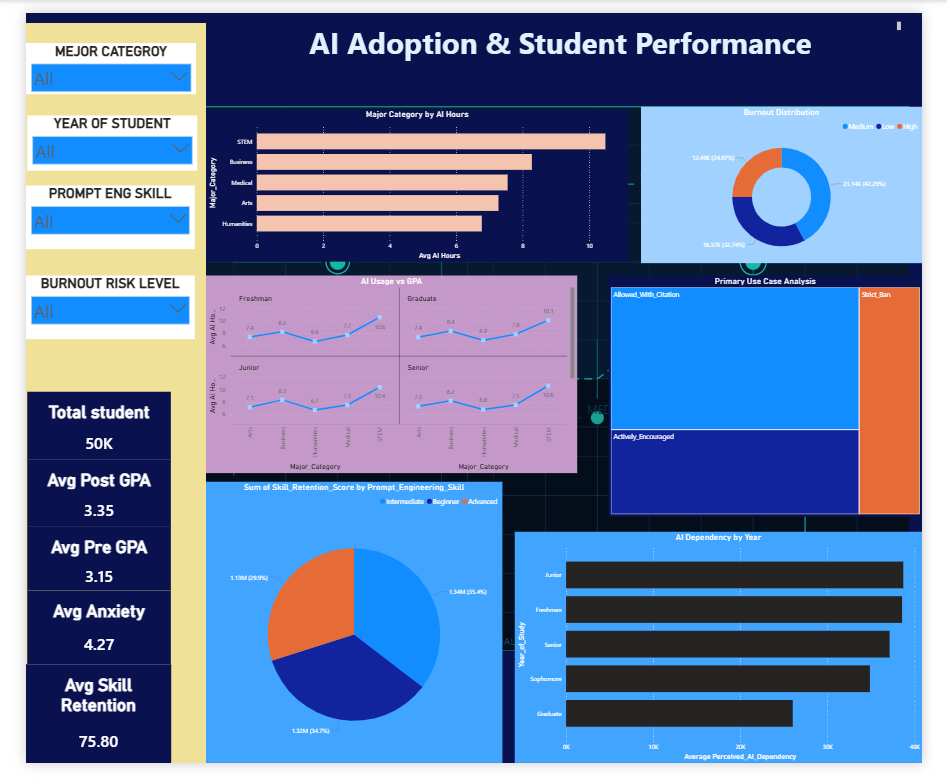

The page's visual inventory and layout, read from the dashboard file:
{"tool":"powerbi","page":{"name":"Page 1","canvas":[1792,1500],"ordinal":0},"visuals":[{"type":"shape","box":[0,0,360,1500],"z":0},{"type":"textbox","box":[407.5,12.5,1347.5,92.5],"z":1000},{"type":"cardVisual","title":"Total student","fields":{"Data":["CountNonNull(ai_student_impact_dataset (1).Student_ID)"]},"box":[2.5,757.5,287.5,135],"z":2000},{"type":"cardVisual","title":"Avg Pre GPA","fields":{"Data":["Sheet2.Avg Pre GPA"]},"box":[2.5,1027.5,287.5,127.5],"z":3000},{"type":"cardVisual","title":"Avg Post GPA","fields":{"Data":["Sheet2.Avg Post GPA"]},"box":[2.5,892.5,287.5,135],"z":4000},{"type":"cardVisual","title":"Avg AI Hours ","fields":{"Data":["Sheet2.Avg AI Hours"]},"box":[782.5,260,145,110],"z":5000},{"type":"cardVisual","title":"Avg Anxiety","fields":{"Data":["Sheet2.Avg Anxiety"]},"box":[2.5,1155,287.5,147.5],"z":6000},{"type":"cardVisual","title":"Avg Skill Retention","fields":{"Data":["Sheet2.Avg Skill Retention"]},"box":[0,1302.5,290,197.5],"z":7000},{"type":"clusteredBarChart","title":" Major Category by  AI Hours","fields":{"Category":["ai_student_impact_dataset (1).Major_Category"],"Y":["Sheet2.Avg AI Hours"]},"box":[360,192.5,845,305],"z":8000},{"type":"lineChart","title":"AI Usage vs GPA","fields":{"Y":["Sheet2.Avg AI Hours"],"Category":["ai_student_impact_dataset (1).Major_Category"],"Rows":["ai_student_impact_dataset (1).Year_of_Study"]},"box":[360,525,742.5,395],"z":9000},{"type":"donutChart","title":"Burnout Distribution","fields":{"Category":["ai_student_impact_dataset (1).Burnout_Risk_Level"],"Y":["CountNonNull(ai_student_impact_dataset (1).Student_ID)"]},"box":[1230,187.5,562.5,312.5],"z":10000},{"type":"barChart","title":"AI Dependency by Year","fields":{"Category":["ai_student_impact_dataset (1).Year_of_Study"],"Y":["Sum(ai_student_impact_dataset (1).Perceived_AI_Dependency)"]},"box":[977.5,1037.5,815,462.5],"z":11000},{"type":"pieChart","fields":{"Category":["ai_student_impact_dataset (1).Prompt_Engineering_Skill"],"Y":["Sum(ai_student_impact_dataset (1).Skill_Retention_Score)"]},"box":[360,937.5,592.5,562.5],"z":12000},{"type":"treemap","title":"Primary Use Case Analysis","fields":{"Group":["ai_student_impact_dataset (1).Institutional_Policy"],"Values":["CountNonNull(ai_student_impact_dataset (1).Student_ID)"]},"box":[1165,525,627.5,482.5],"z":13000},{"type":"slicer","title":"    MEJOR CATEGROY","fields":{"Values":["ai_student_impact_dataset (1).Major_Category"]},"box":[0,60,340,102.5],"z":14000},{"type":"slicer","title":"YEAR OF STUDENT ","fields":{"Values":["ai_student_impact_dataset (1).Year_of_Study"]},"box":[2.5,205,340,110],"z":15000},{"type":"slicer","title":"PROMPT ENG SKILL","fields":{"Values":["ai_student_impact_dataset (1).Prompt_Engineering_Skill"]},"box":[0,345,337.5,127.5],"z":16000},{"type":"slicer","title":"BURNOUT RISK LEVEL","fields":{"Values":["ai_student_impact_dataset (1).Burnout_Risk_Level"]},"box":[0,525,337.5,127.5],"z":17000}]}

Visuals, with their boxes in screenshot pixels (x1, y1, x2, y2), scaled from the page's 1792x1500 canvas onto the 947x779 screenshot:
shape: 0, 0, 190, 778
textbox: 215, 6, 927, 55
"Total student" cardVisual: 1, 393, 153, 464
"Avg Pre GPA" cardVisual: 1, 534, 153, 600
"Avg Post GPA" cardVisual: 1, 464, 153, 534
"Avg AI Hours " cardVisual: 414, 135, 490, 192
"Avg Anxiety" cardVisual: 1, 600, 153, 676
"Avg Skill Retention" cardVisual: 0, 676, 153, 778
" Major Category by  AI Hours" clusteredBarChart: 190, 100, 637, 258
"AI Usage vs GPA" lineChart: 190, 273, 583, 478
"Burnout Distribution" donutChart: 650, 97, 946, 260
"AI Dependency by Year" barChart: 517, 539, 946, 778
pieChart - ai_student_impact_dataset (1).Prompt_Engineering_Skill x Sum(ai_student_impact_dataset (1).Skill_Retention_Score): 190, 487, 503, 778
"Primary Use Case Analysis" treemap: 616, 273, 946, 523
"    MEJOR CATEGROY" slicer: 0, 31, 180, 84
"YEAR OF STUDENT " slicer: 1, 106, 181, 164
"PROMPT ENG SKILL" slicer: 0, 179, 178, 245
"BURNOUT RISK LEVEL" slicer: 0, 273, 178, 339
